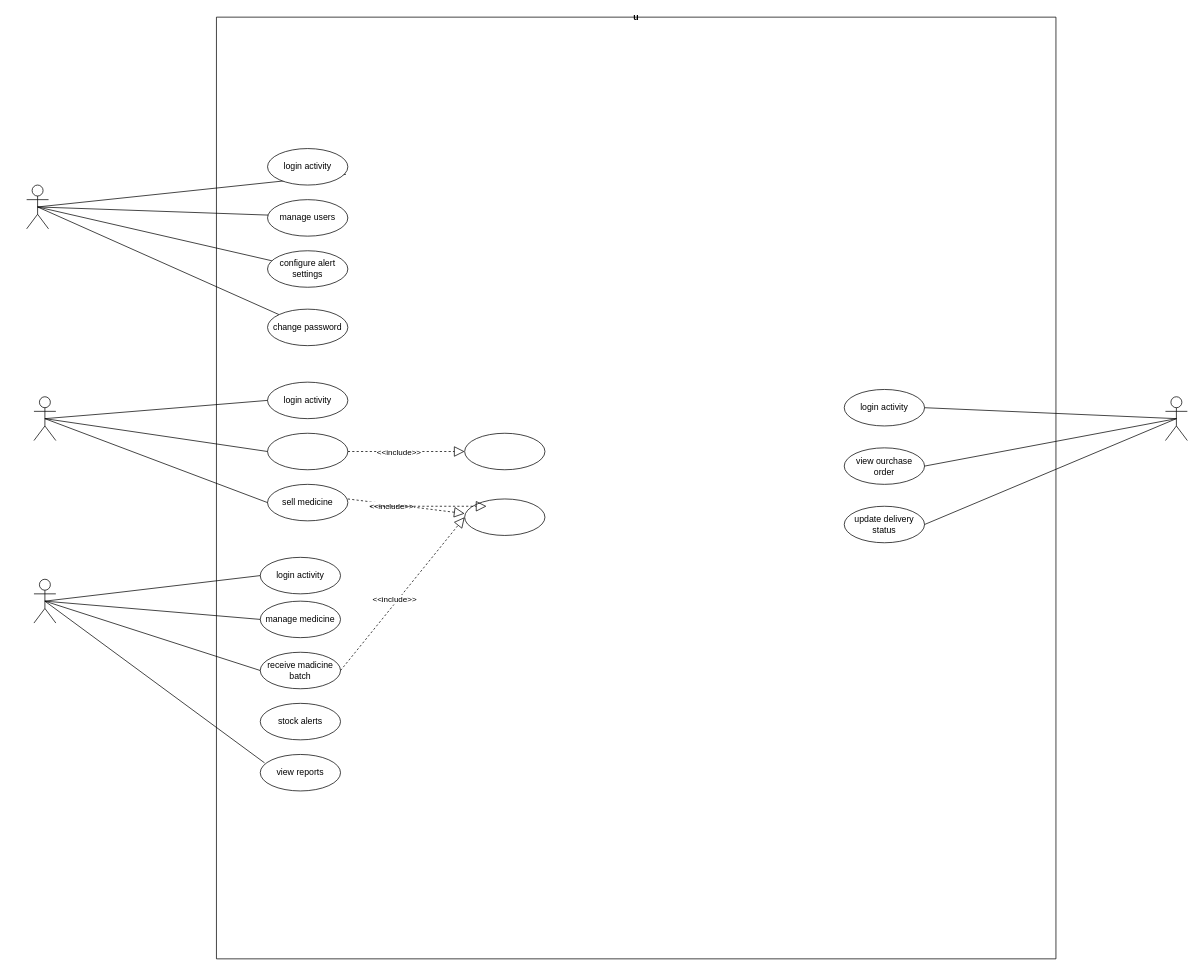
This 1200x972 diagram has some shape labels left out. Each missing label, with the centre of its shape:
"Actor" goes at [1176,418].
"administrator" goes at [37,206].
"cashier" goes at [44,418].
"pharmacist" goes at [44,601].
"search medicine" goes at [307,451].
"select batch" goes at [504,451].
"update stock" goes at [504,516].
